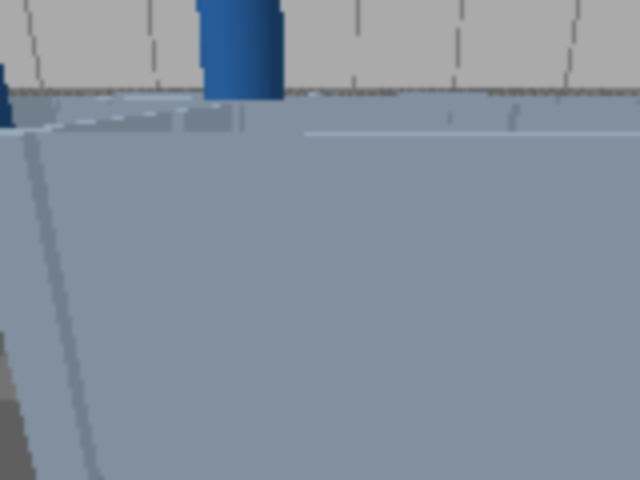person: (0, 0, 18, 223)
